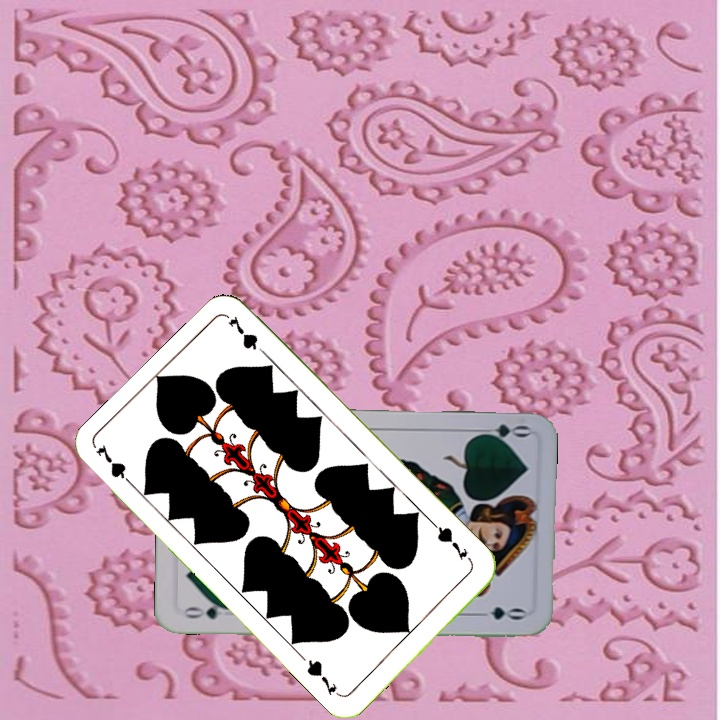G7: (91, 441, 139, 491), (430, 520, 471, 563)
GO: (472, 420, 531, 445), (179, 599, 238, 622)
